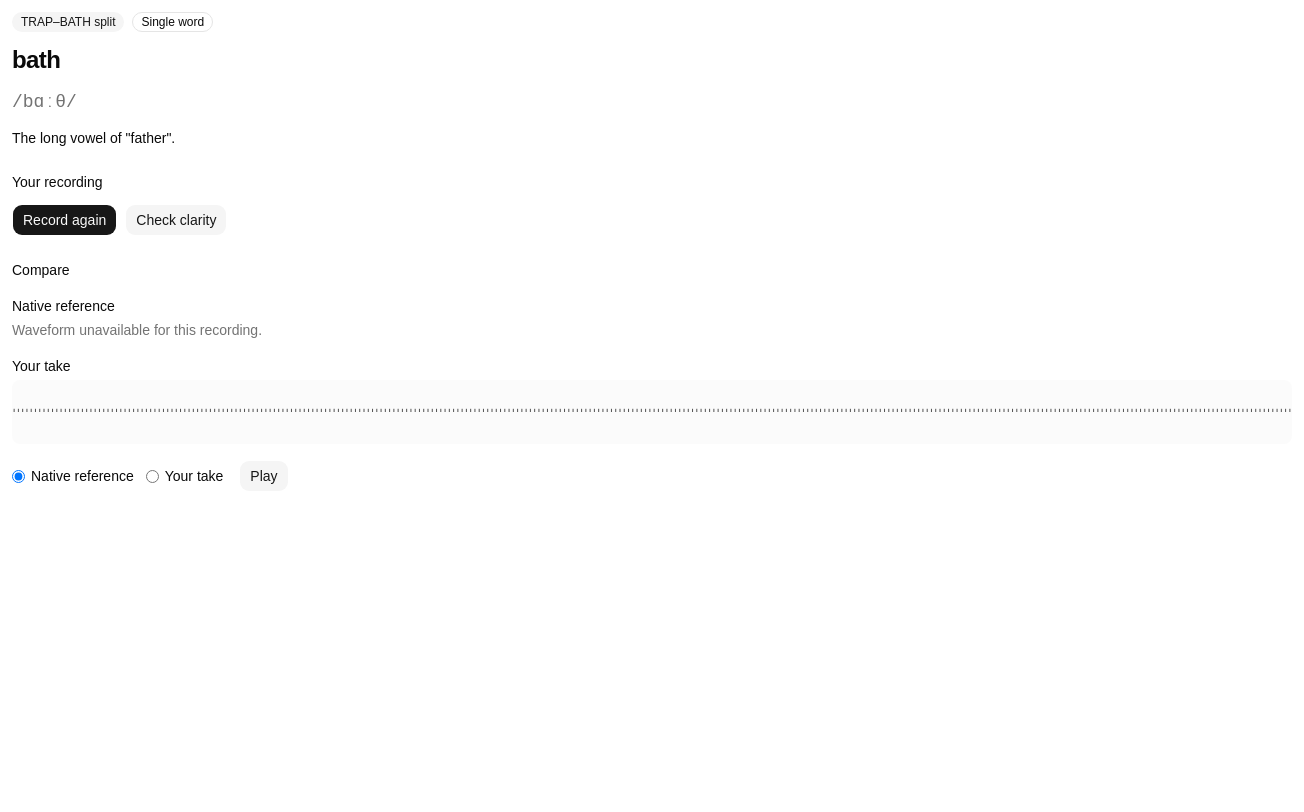
comparing a take with the reference › marks unclear words once the take is scored
This screenshot has width=1304, height=812.
Click the button "Check clarity": click(176, 220) [125,204,227,236]
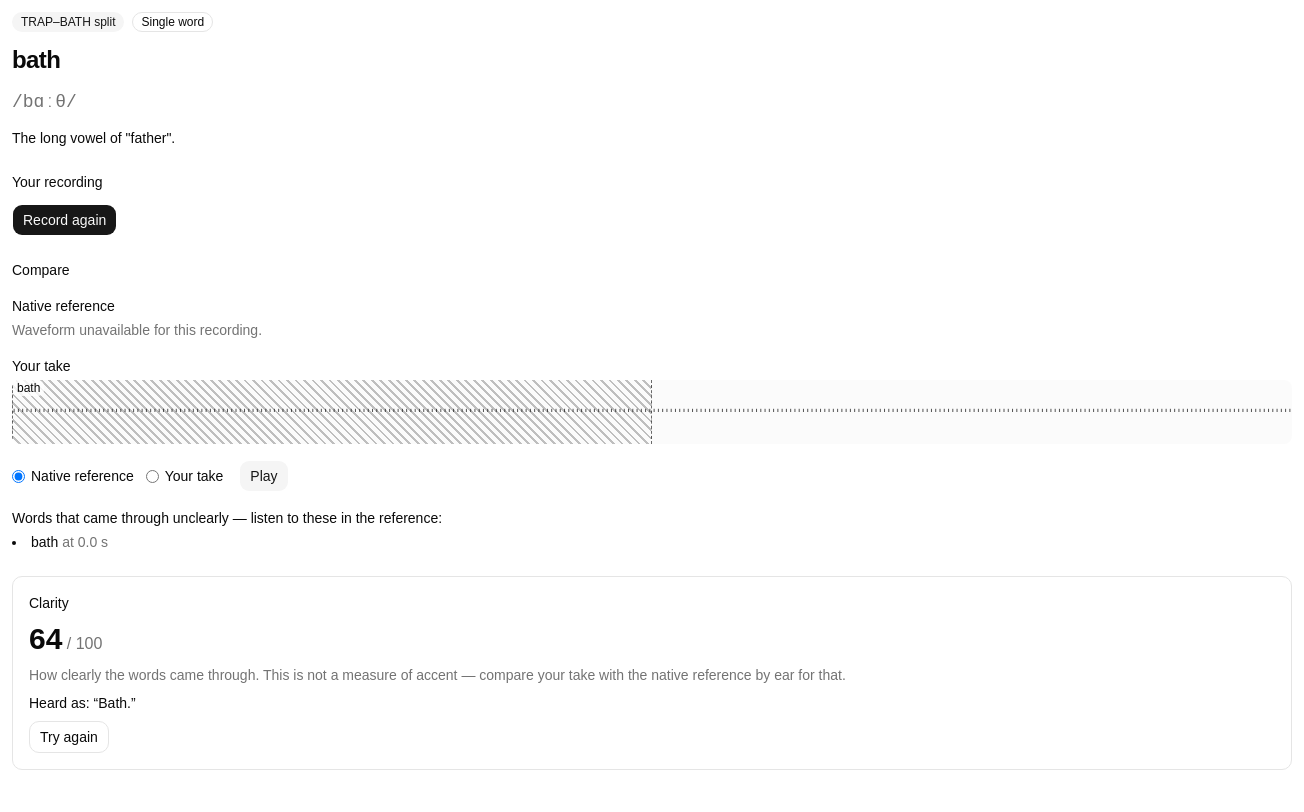
Now the element with test id "unclear-marker" reads "bath", box [17,381,40,395]
